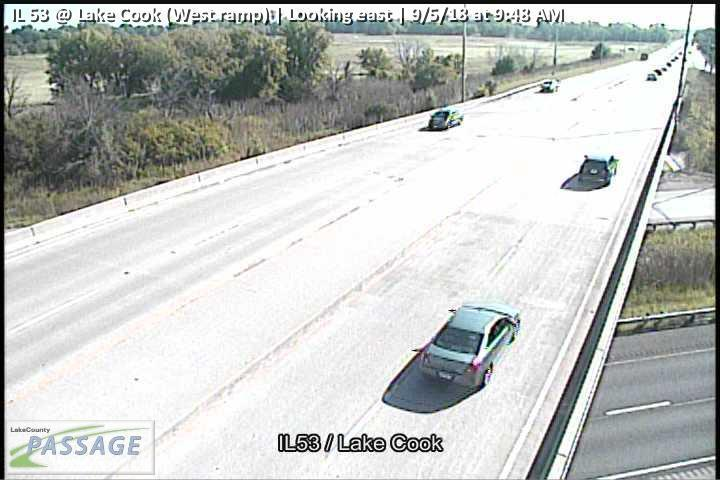SUV: (578, 154, 619, 188)
Sedan: (419, 302, 520, 388), (429, 111, 464, 131)
